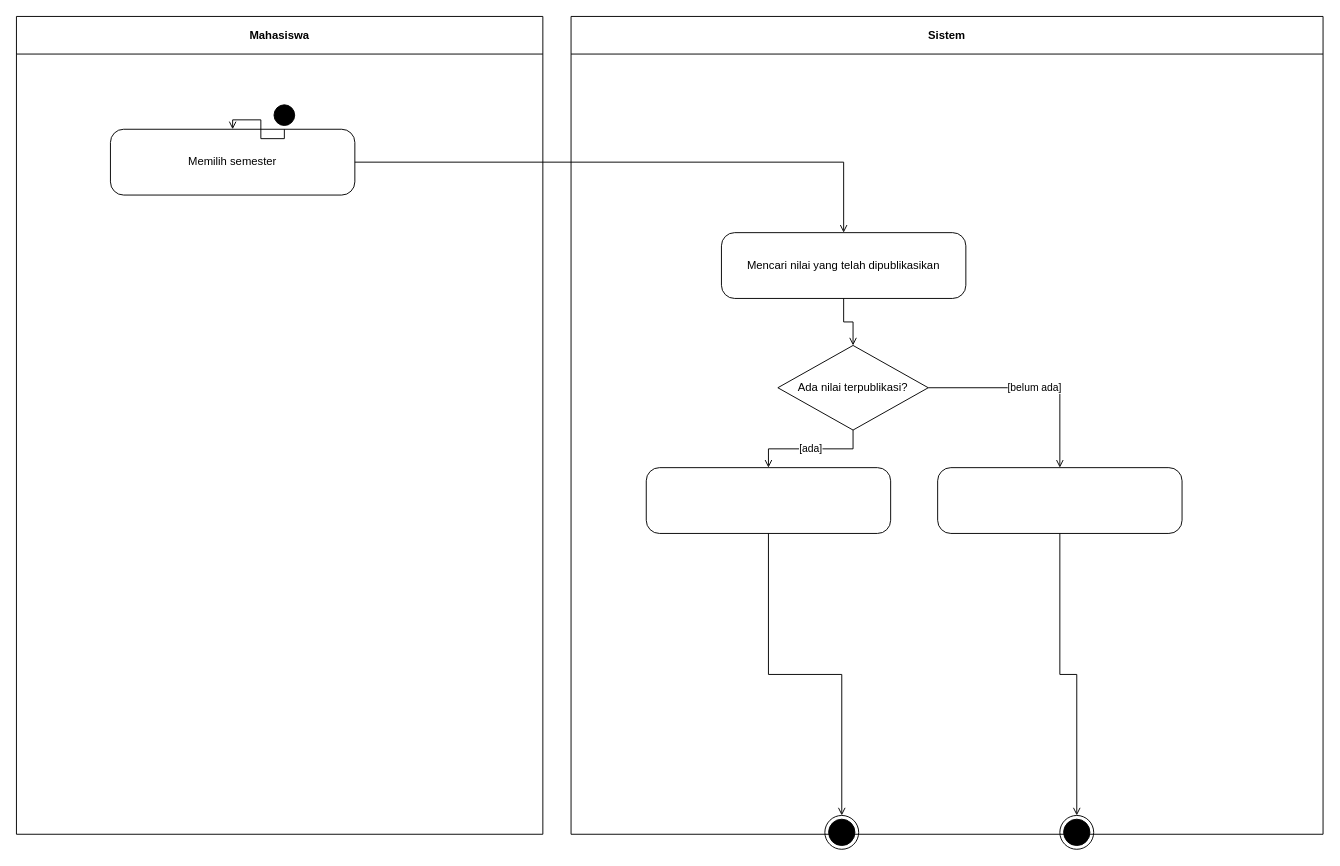
This 1340x866 diagram has some shape labels left out. Each missing label, with the centre of its shape:
"Menampilkan informasi KHS belum tersedia" goes at point (1059, 500).
"Menampilkan KHS semester terpilih" goes at point (768, 500).
